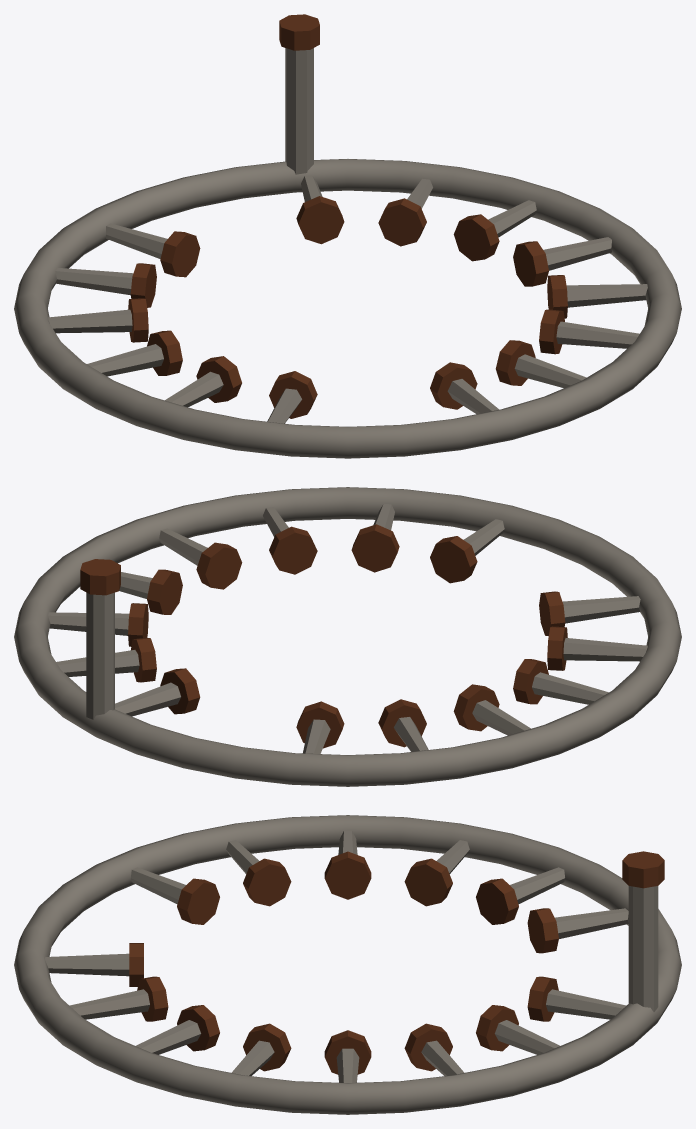
The model's file is fuelmanifold_scrap.glb.
3 renders of one model, top to bottom at view 1: azimuth 30°, elevation 25°; view 2: azimuth 150°, elevation 25°; view 3: azimuth 270°, elevation 25°, orthographic.
Parts seen in each view (by area): view 1: fuelmanifold_scrap; view 2: fuelmanifold_scrap; view 3: fuelmanifold_scrap.
Boxes of the visible parts, <box> form: fuelmanifold_scrap: <box>14,14,681,458</box>; fuelmanifold_scrap: <box>14,487,681,786</box>; fuelmanifold_scrap: <box>14,815,681,1114</box>.
Bounding box in the file's own units: 0.2528 × 0.0728 × 0.2528.
